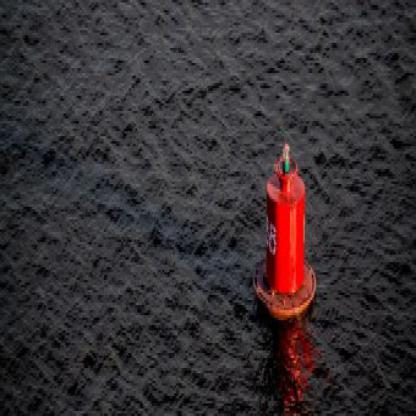buoy: (249, 129, 322, 330)
